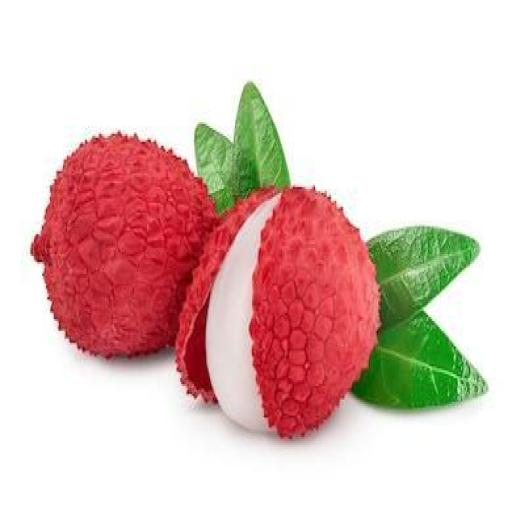lychee: (176, 188, 379, 437), (32, 134, 216, 356)
